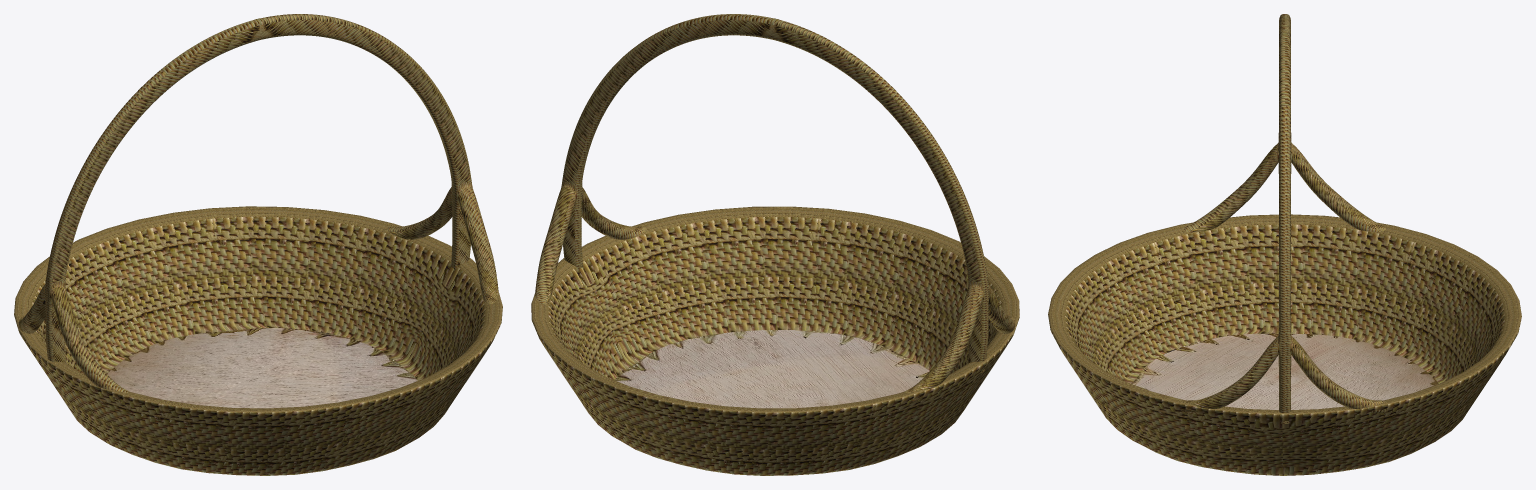
Rendered from ROUND FRUIT BASKET.fbx.
3 views of the same model, side by side, from view 1: azimuth 30°, elevation 25°; view 2: azimuth 150°, elevation 25°; view 3: azimuth 270°, elevation 25° (orthographic). The views are drawn at different scales.
Parts seen in each view (by area): view 1: pCylinder3, pCube4, pCube5; view 2: pCylinder3, pCube4, pCube5; view 3: pCylinder3, pCube5, pCube4.
Boxes of the visible parts, left/top/right/bottom form: pCylinder3: left=14, top=206, right=502, bottom=475; pCube4: left=18, top=18, right=263, bottom=402; pCube5: left=256, top=14, right=498, bottom=303; pCylinder3: left=531, top=206, right=1019, bottom=475; pCube4: left=770, top=18, right=1015, bottom=403; pCube5: left=535, top=14, right=777, bottom=304; pCylinder3: left=1048, top=214, right=1521, bottom=475; pCube5: left=1181, top=33, right=1387, bottom=423; pCube4: left=1183, top=14, right=1385, bottom=232.
Bounding box in the file's own units: 9.15 × 7.9 × 9.14.
Materials: 2 (2 with a texture image).
